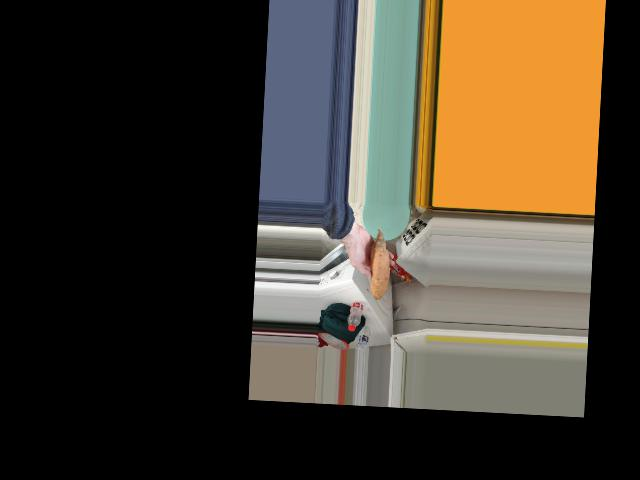sweet_potato: (364, 242, 388, 291)
